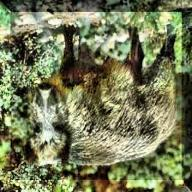boar: (14, 4, 191, 166)
